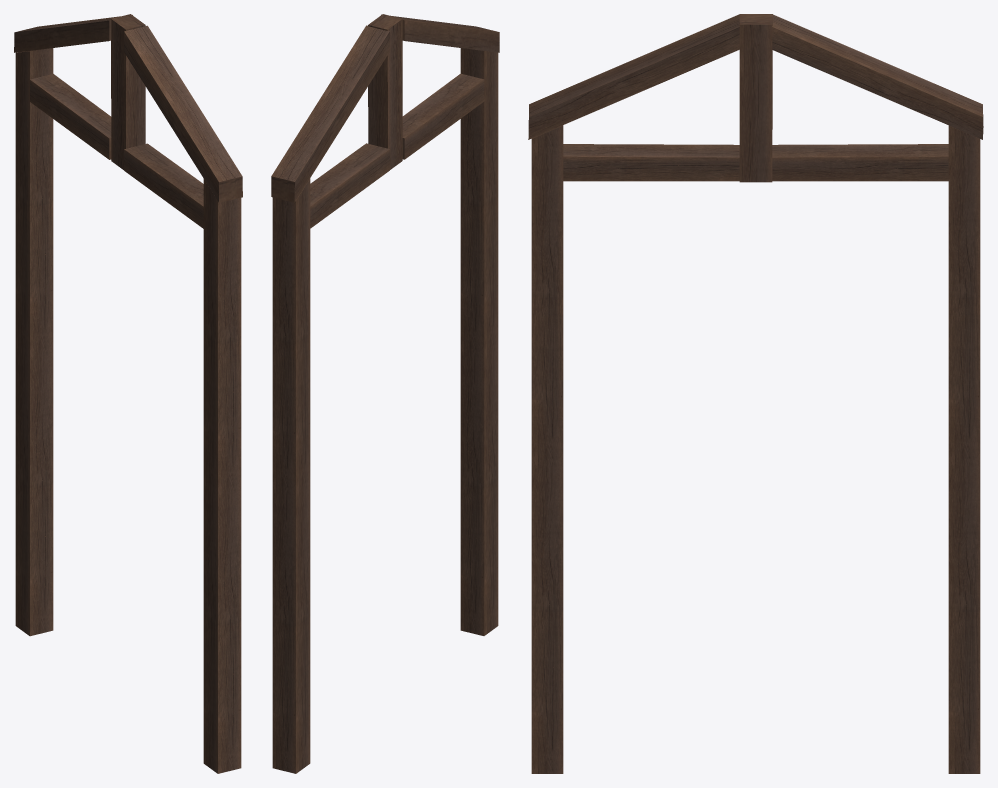
File: yane_frame_1t_0f_5.fbx
3 views of the same model, side by side, from view 1: azimuth 30°, elevation 25°; view 2: azimuth 150°, elevation 25°; view 3: azimuth 270°, elevation 25° (orthographic). The views are drawn at different scales.
Parts seen in each view (by area): view 1: yane_frame_1t_0f_5; view 2: yane_frame_1t_0f_5; view 3: yane_frame_1t_0f_5.
Boxes of the visible parts, x1=… form: yane_frame_1t_0f_5: x1=14, y1=14, x2=242, y2=773; yane_frame_1t_0f_5: x1=271, y1=14, x2=499, y2=773; yane_frame_1t_0f_5: x1=528, y1=14, x2=983, y2=773.
Bounding box in the file's own units: 15.81 × 433 × 239.
